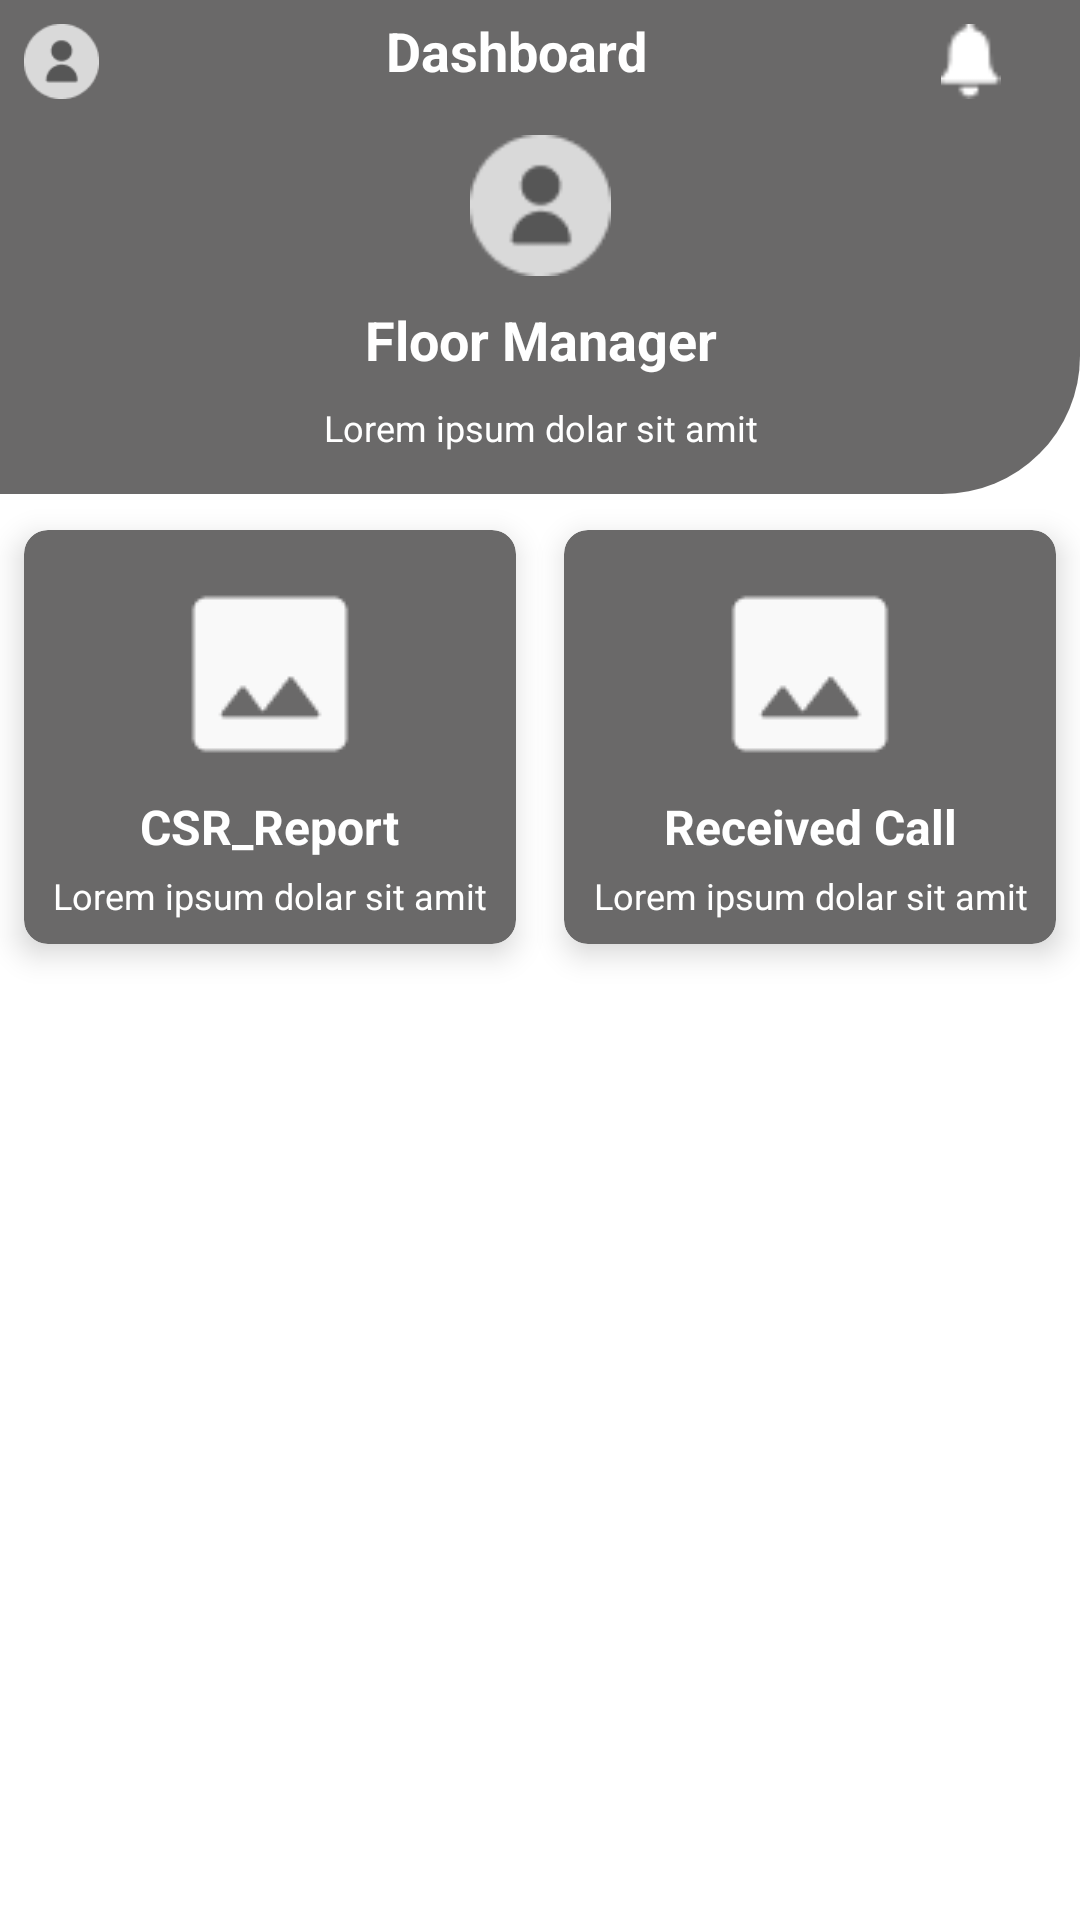

Named icons in this screenshot (1080×1920) and their centers, [x,y]:
notification: [971,61]
photo: [270,674], [810,674]
profile: [61,61], [540,205]
